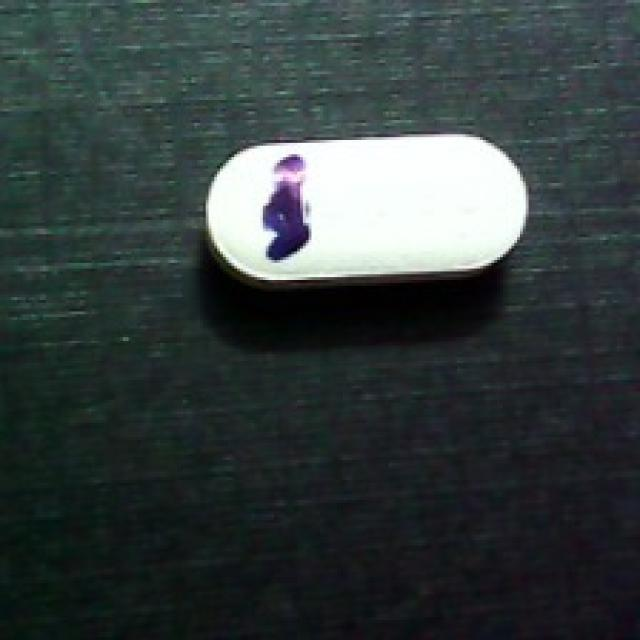defected: (199, 130, 533, 294)
